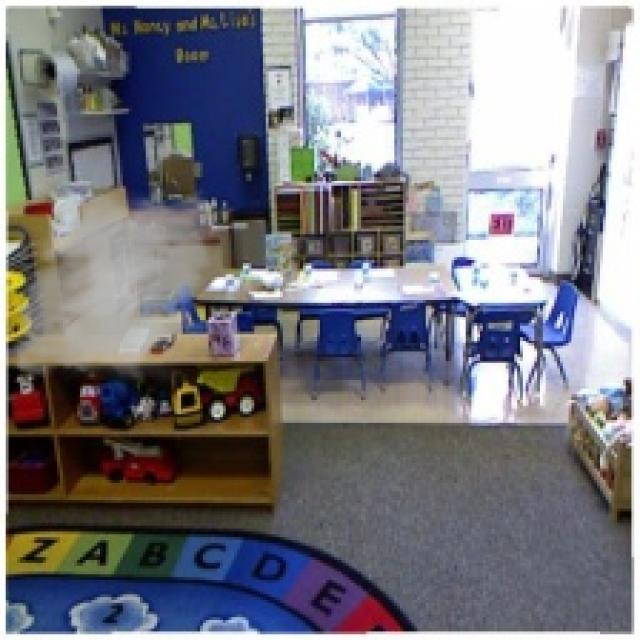smoke: (6, 175, 223, 392)
